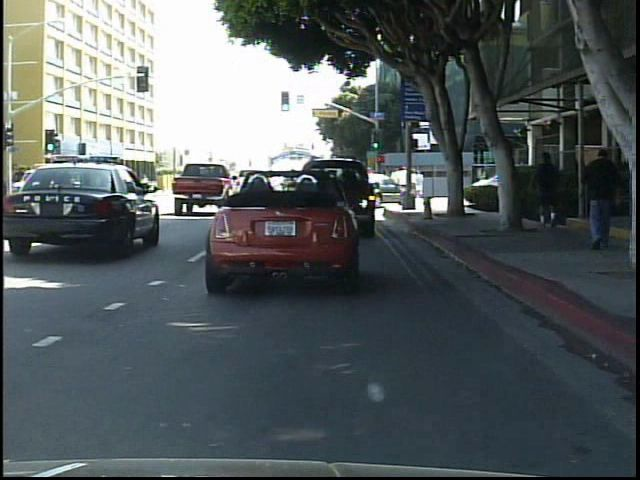person: (580, 141, 630, 260), (528, 146, 570, 236), (146, 174, 147, 200)
